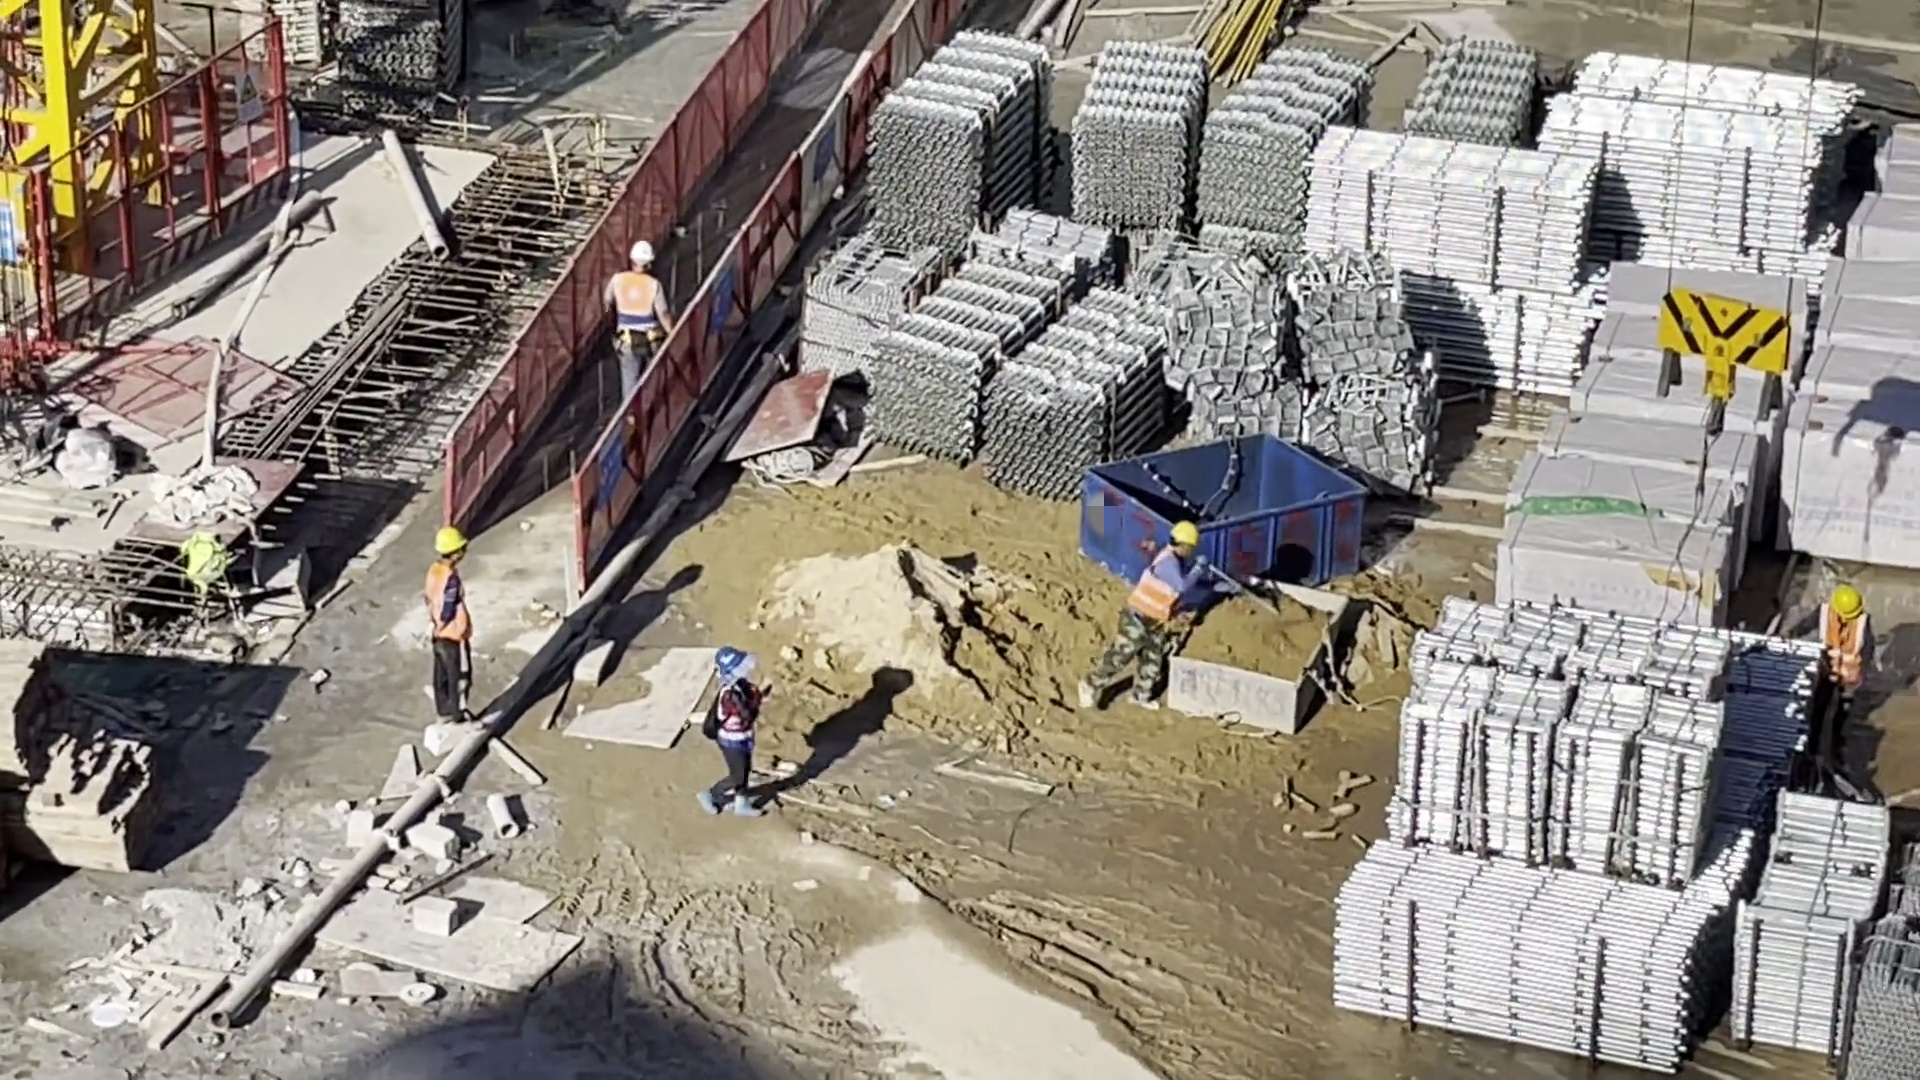fence: (430, 1, 914, 585)
helmet: (717, 647, 765, 701), (1171, 515, 1213, 562), (611, 229, 655, 269), (1829, 578, 1867, 622), (422, 526, 466, 560)
hook: (1645, 273, 1782, 417)
hopper: (1081, 415, 1365, 585), (1178, 565, 1325, 718)
person: (1066, 507, 1195, 710), (412, 521, 482, 731), (698, 640, 765, 844), (600, 239, 670, 396), (1792, 577, 1878, 692)
scaffold: (1314, 39, 1870, 372), (1319, 838, 1715, 1080), (1397, 588, 1747, 858), (858, 217, 1160, 493), (1755, 771, 1920, 1061), (872, 32, 1046, 224), (1201, 38, 1365, 229), (1066, 36, 1204, 209)
vest: (1812, 600, 1869, 686), (613, 275, 672, 338), (424, 565, 474, 633), (1128, 547, 1178, 613)
wood: (9, 635, 154, 881)
